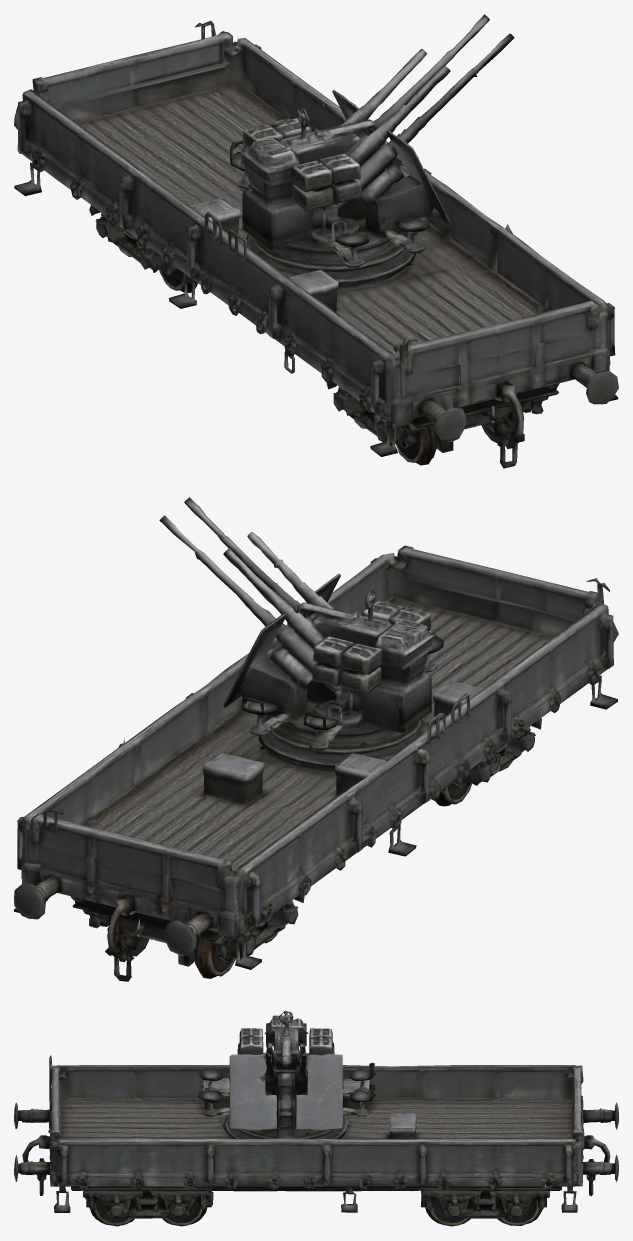
File: prop_flak_wagon.glb
3 renders of one model, top to bottom at view 1: azimuth 30°, elevation 25°; view 2: azimuth 150°, elevation 25°; view 3: azimuth 270°, elevation 25°, orthographic. The views are drawn at different scales.
Parts seen in each view (by area): view 1: tripo_node_38855e0b-23d2-4632-ba60-307908397fd8; view 2: tripo_node_38855e0b-23d2-4632-ba60-307908397fd8; view 3: tripo_node_38855e0b-23d2-4632-ba60-307908397fd8.
Part boxes in pixels (left/top/right/bottom): tripo_node_38855e0b-23d2-4632-ba60-307908397fd8: left=14, top=14, right=618, bottom=468; tripo_node_38855e0b-23d2-4632-ba60-307908397fd8: left=14, top=497, right=618, bottom=981; tripo_node_38855e0b-23d2-4632-ba60-307908397fd8: left=14, top=1010, right=618, bottom=1226.
Bounding box in the file's own units: 0.381 × 0.3837 × 0.9789.
1 material, 1 textured.
